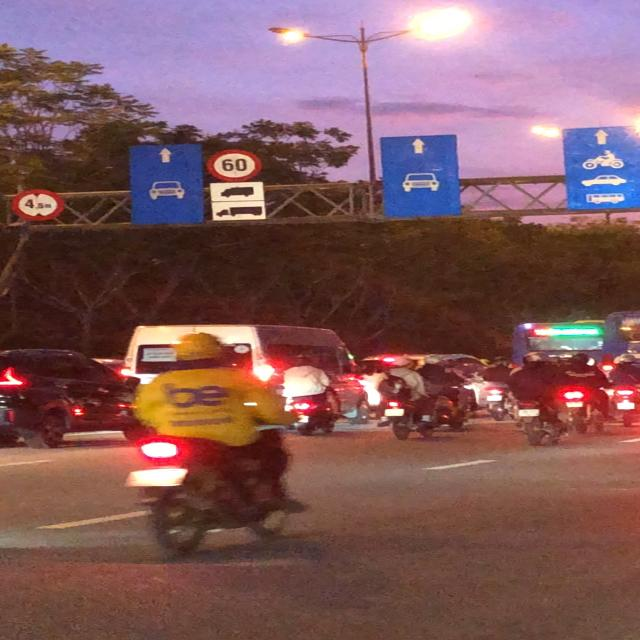Bien bao han che chieu cao: (11, 187, 70, 224)
Bien bao toc do toi da cho phep: (202, 145, 266, 185)
